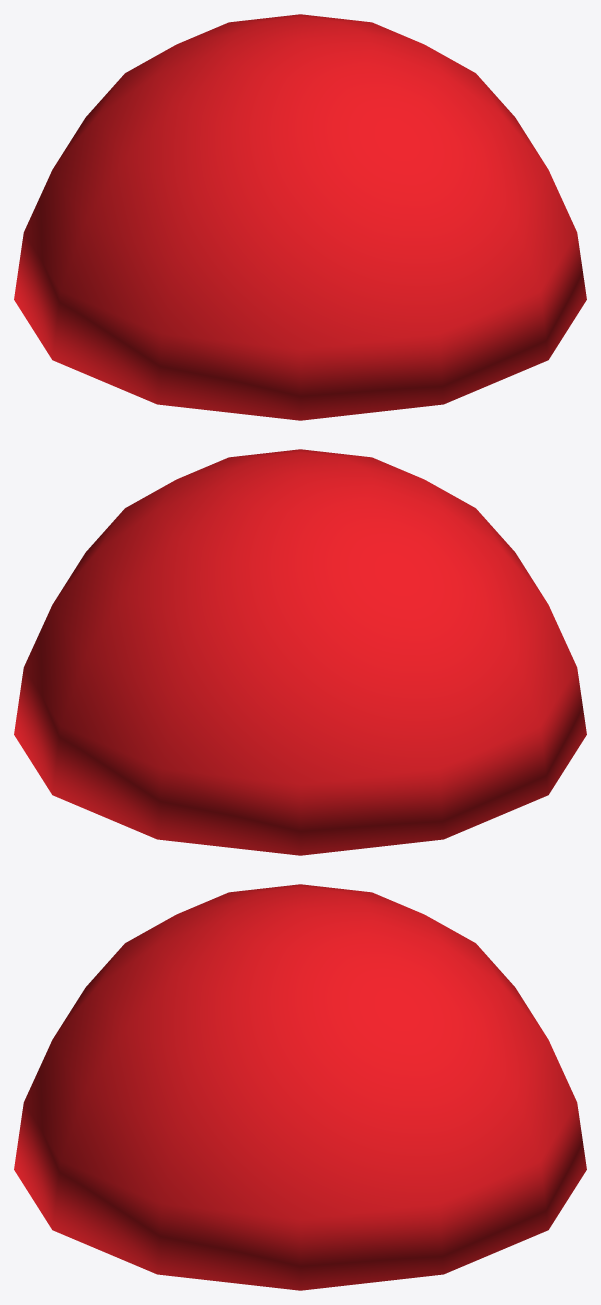
The model's file is LumberjackCap.fbx.
3 renders of one model, top to bottom at view 1: azimuth 30°, elevation 25°; view 2: azimuth 150°, elevation 25°; view 3: azimuth 270°, elevation 25°, orthographic.
Visible parts, largest first — view 1: LumberjackCap; view 2: LumberjackCap; view 3: LumberjackCap.
Boxes of the visible parts, box(x1,y1,x2,y2) form: LumberjackCap: box(14, 14, 586, 420); LumberjackCap: box(14, 449, 586, 855); LumberjackCap: box(14, 884, 586, 1290).
Bounding box in the file's own units: 215 × 108 × 215.
